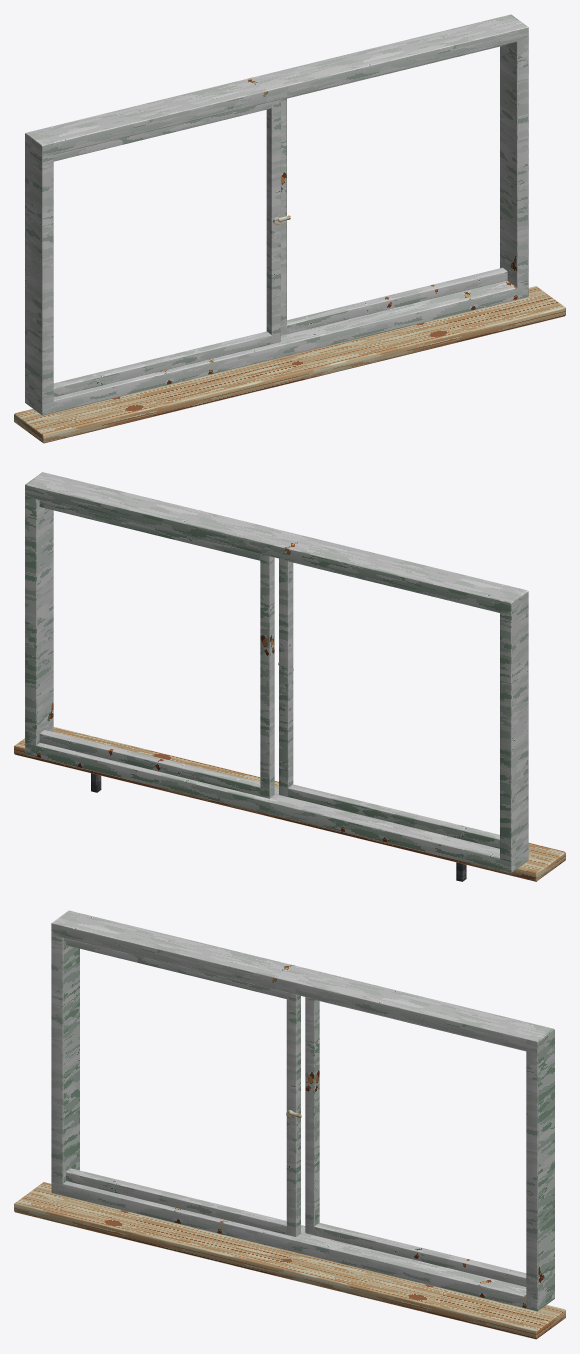
The model's file is gk_window.glb.
3 renders of one model, top to bottom at view 1: azimuth 30°, elevation 25°; view 2: azimuth 150°, elevation 25°; view 3: azimuth 330°, elevation 25°, orthographic.
Visible parts, largest first — view 1: mesh; view 2: mesh; view 3: mesh.
Boxes of the visible parts, <box> form: mesh: <box>14,14,565,443</box>; mesh: <box>14,472,565,881</box>; mesh: <box>14,910,565,1339</box>.
Size of the model in its own units: 1.72 by 0.9399 by 0.21.
Materials: 1 (1 with a texture image).
